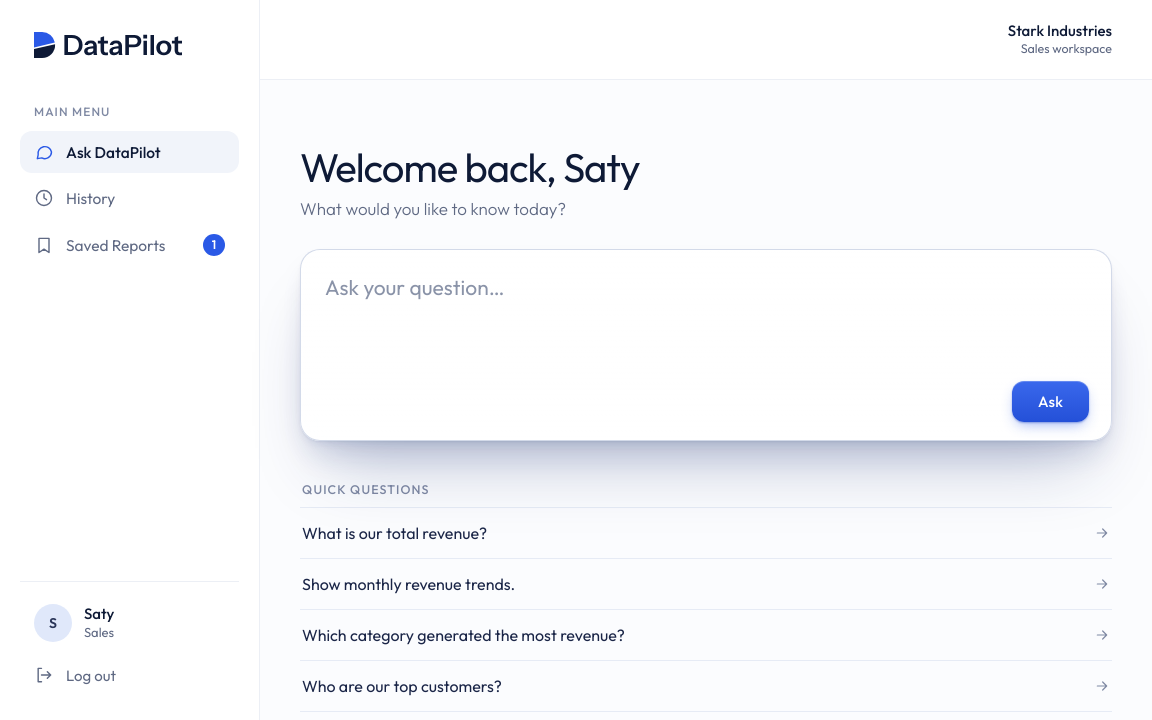
it: where Export PDF is offered › is not offered before a question is answered, while it runs, or for an error
In the text box labelled "your question": (707,319) [325, 272, 1089, 366], type "Total revenue?"
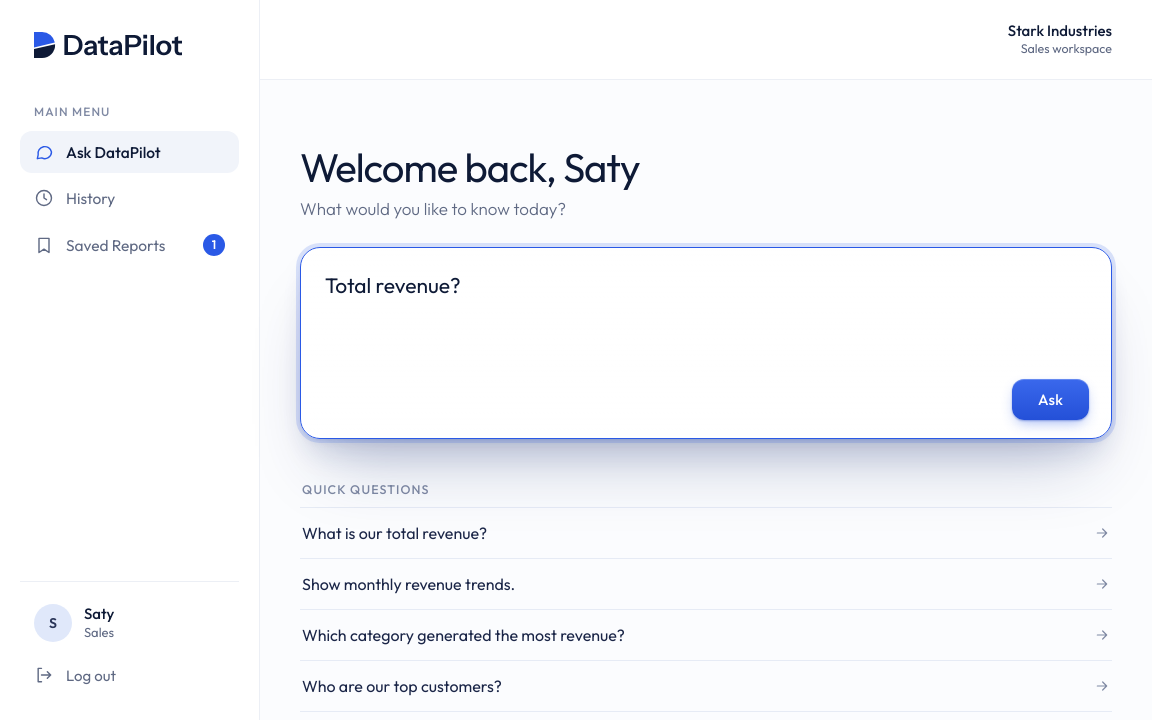
Click the button "Ask": (1050,399) [1012, 378, 1089, 420]
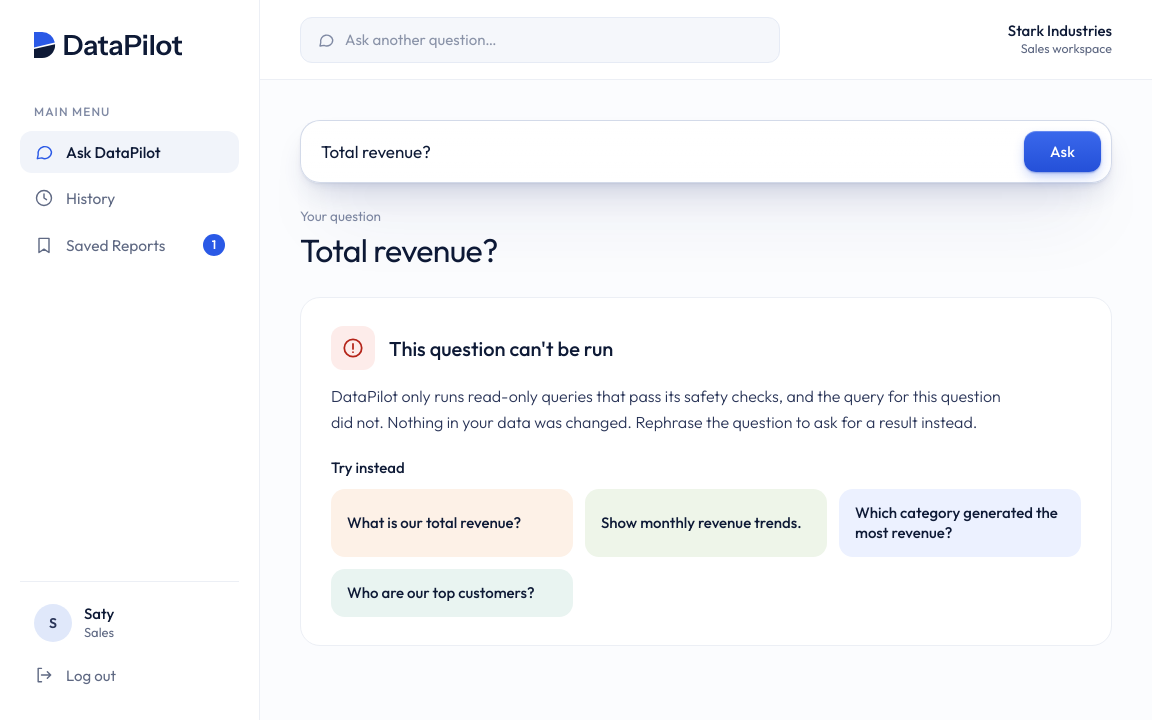
Result: the heading "Total revenue?" is shown at [300, 230, 498, 270]
